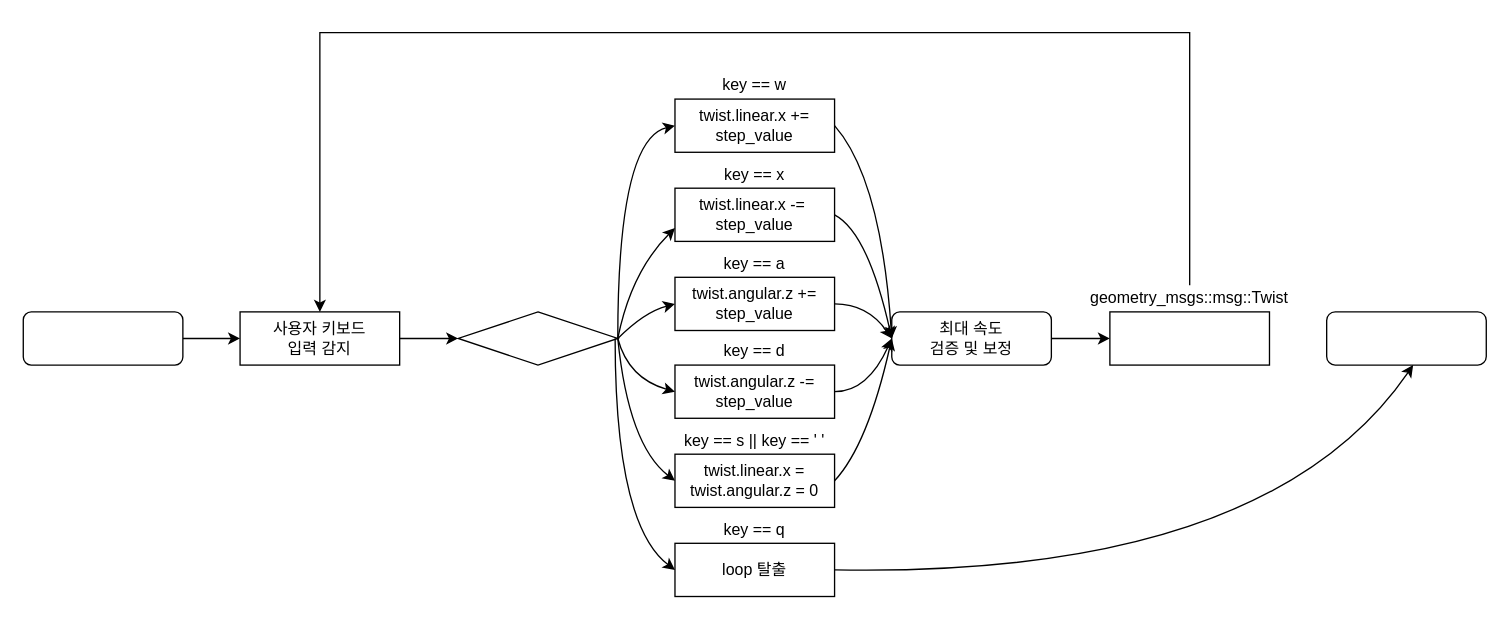
Image size: 1510x620. Some labels were removed from this diagram. The shapes that lost their labels are listed below. From the top down, each one's centre as x and y in pixels, then its label:
At point (102, 338): "Node init".
At point (537, 338): "입력 key값 확인".
At point (1189, 338): "topic publish".
At point (1405, 338): "프로그램 종료".
